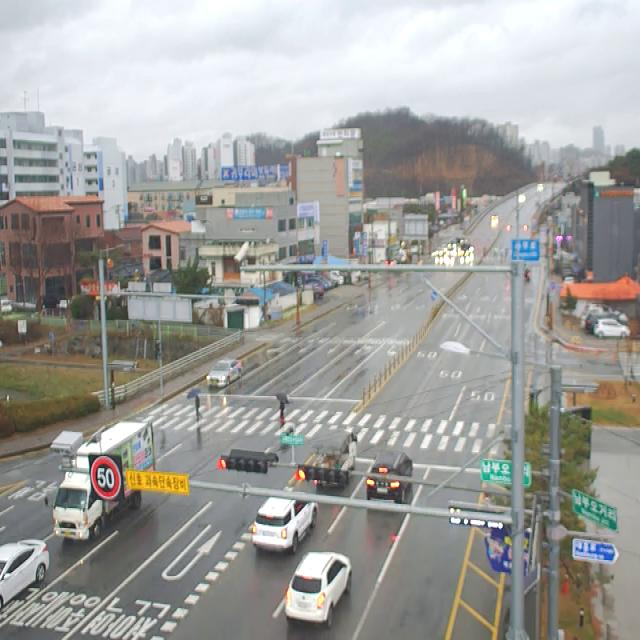Car: (286, 552, 352, 628), (252, 497, 318, 553), (0, 538, 49, 608), (366, 452, 413, 502), (581, 305, 629, 328), (207, 358, 242, 386), (585, 310, 627, 332), (594, 319, 630, 339)
Truck: (45, 421, 156, 539), (312, 428, 358, 485)
